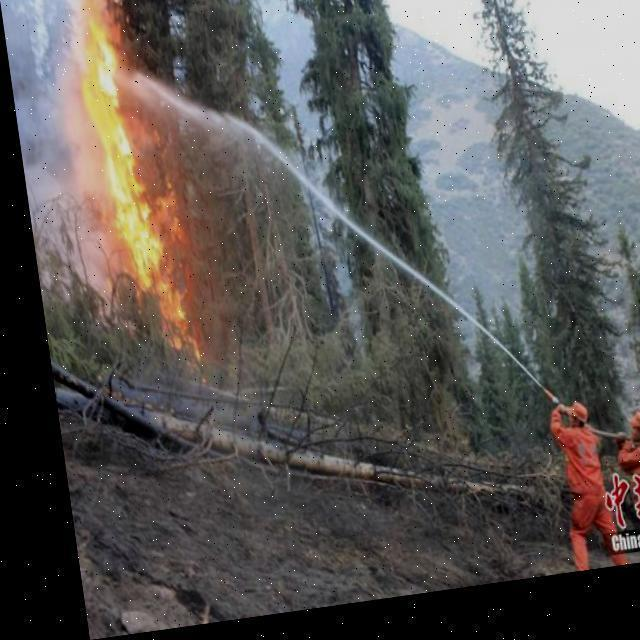Fire: (65, 14, 190, 355)
